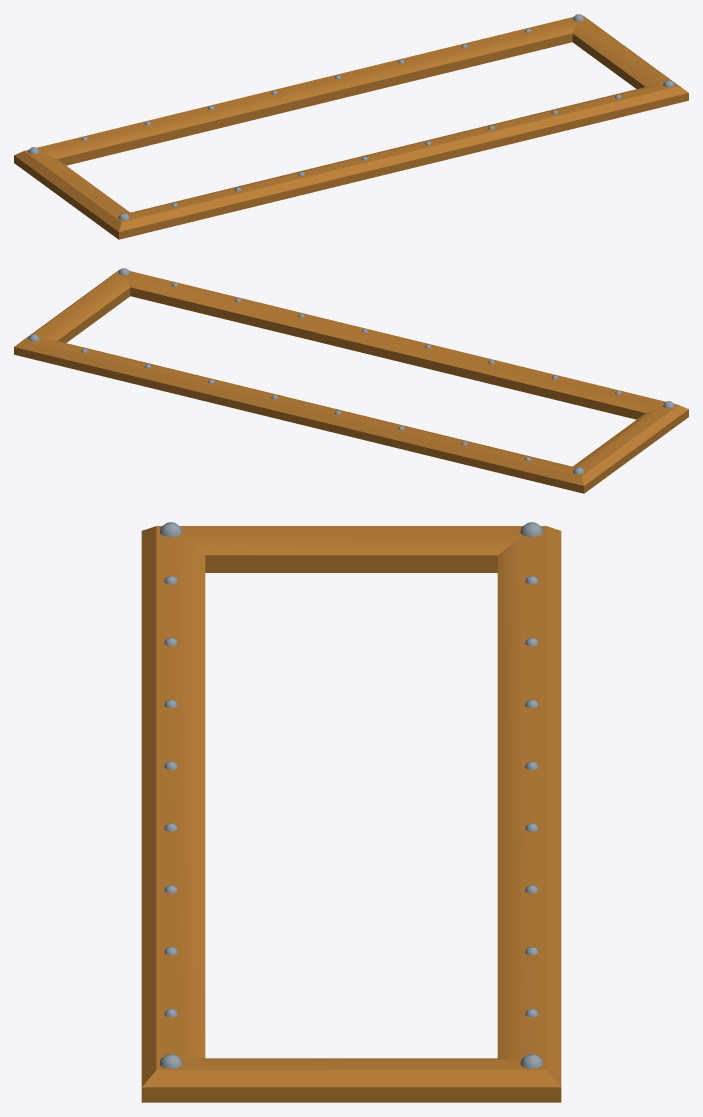
File: aurora-dmd.dae
3 views of the same model, one above another, from view 1: azimuth 30°, elevation 25°; view 2: azimuth 150°, elevation 25°; view 3: azimuth 270°, elevation 25° (orthographic). The views are drawn at different scales.
Visible parts, largest first — view 1: accent, metal; view 2: accent, metal; view 3: accent, metal.
Boxes of the visible parts, x1,y1,x2,y2 form: accent: [14, 16, 688, 239]; metal: [28, 14, 674, 220]; accent: [14, 270, 688, 493]; metal: [28, 268, 674, 474]; accent: [141, 526, 561, 1102]; metal: [160, 522, 542, 1068].
Size of the model in its own units: 0.54 by 0.0159 by 0.172.
